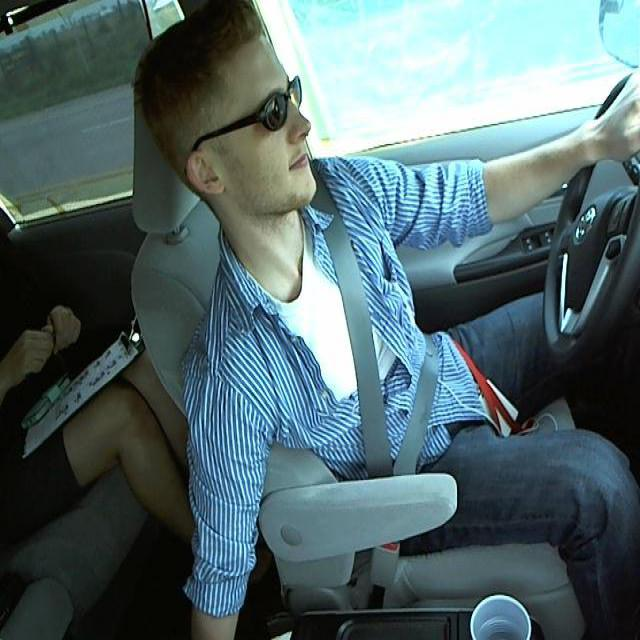seatbelt: (317, 219, 443, 509)
